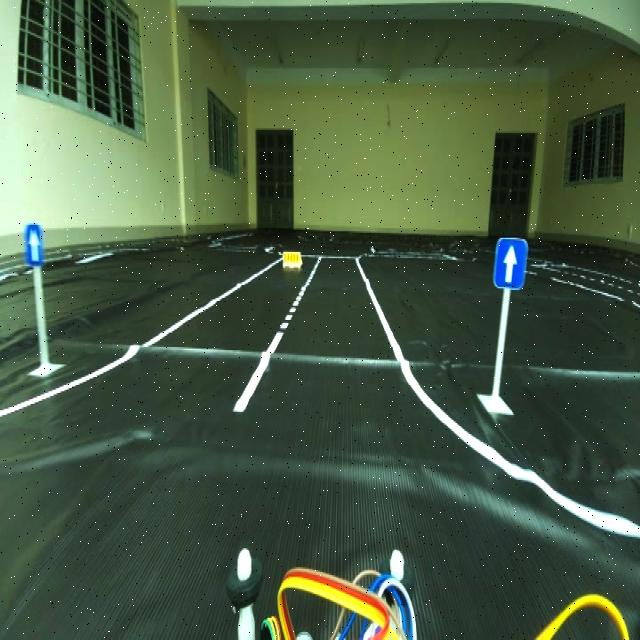onewayroad: (491, 228, 531, 293), (22, 224, 50, 266)
roadblock: (282, 247, 304, 271)
